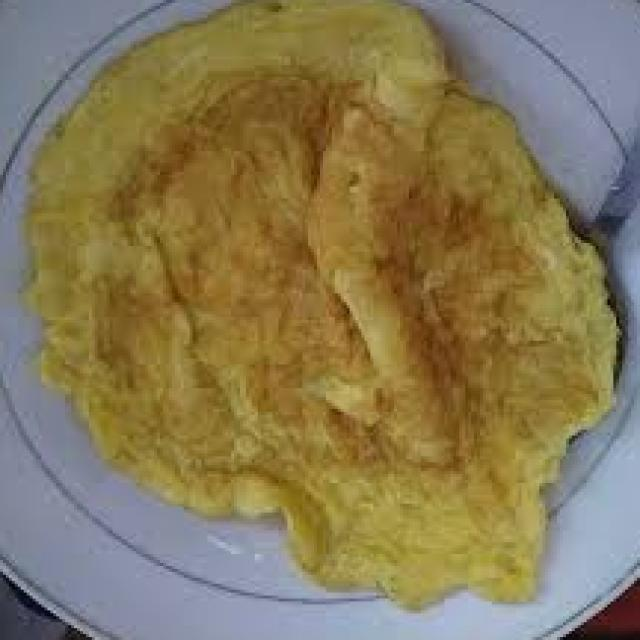telur_dadar: (23, 0, 619, 614)
